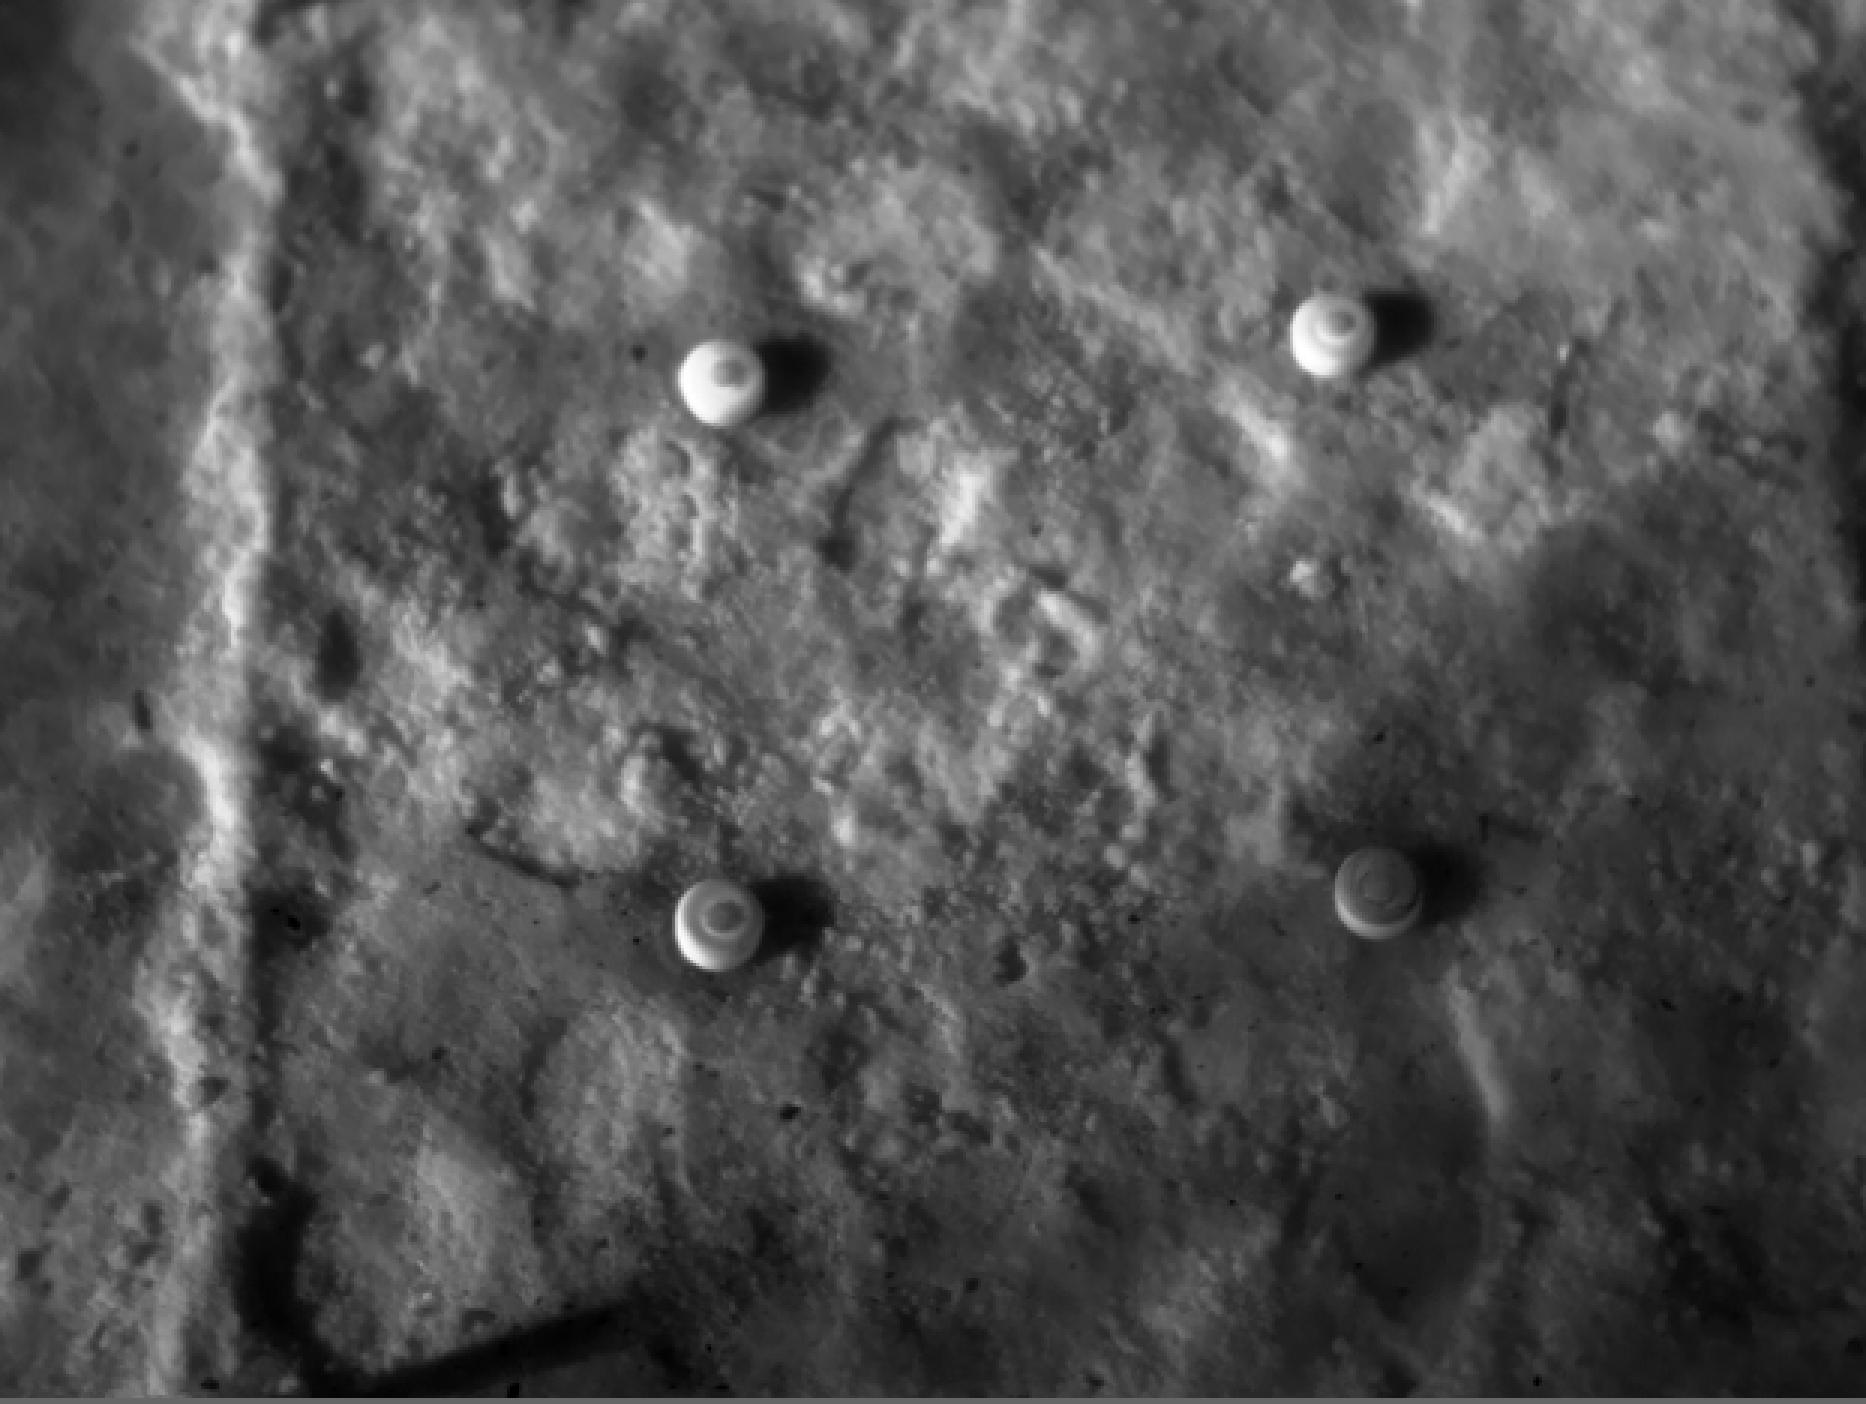mines-gjV8: (676, 875, 771, 978), (676, 345, 773, 429), (1342, 845, 1423, 944), (1288, 298, 1381, 376)
